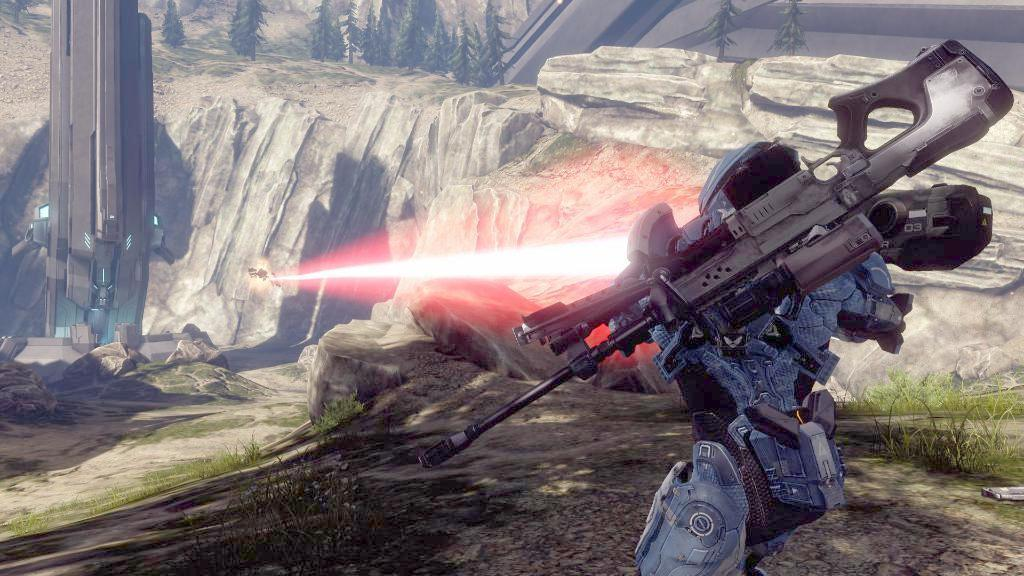gun: (417, 40, 1013, 462)
